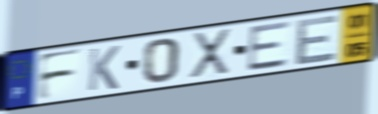0: (141, 37, 182, 85)
E: (245, 19, 294, 74), (293, 12, 340, 68)
F: (35, 46, 85, 103)
K: (85, 44, 122, 93)
X: (188, 26, 233, 80)
